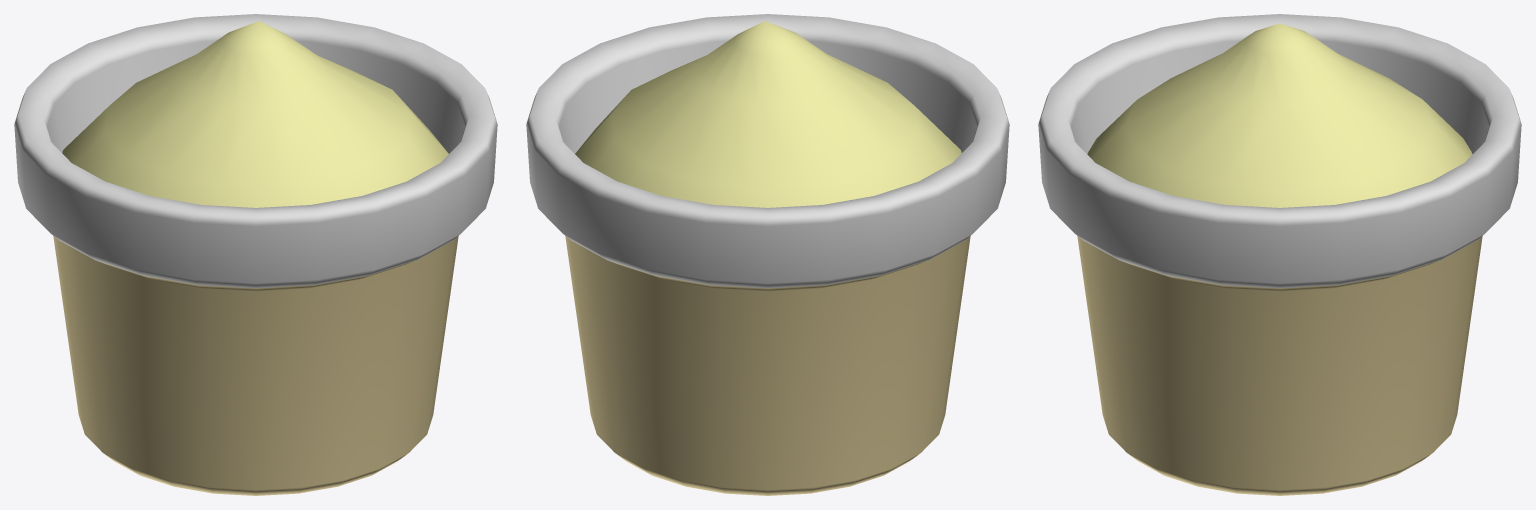
Rendered from pi_cocotteplate01_mayonnaise.gltf.
3 renders of one model, left to right at view 1: azimuth 30°, elevation 25°; view 2: azimuth 150°, elevation 25°; view 3: azimuth 270°, elevation 25°, orthographic.
Parts seen in each view (by area): view 1: um_pi_cocotteplate01_mayonnaise_model_pi_cocotteplate01_mayo (×2); view 2: um_pi_cocotteplate01_mayonnaise_model_pi_cocotteplate01_mayo (×2); view 3: um_pi_cocotteplate01_mayonnaise_model_pi_cocotteplate01_mayo (×2).
Boxes of the visible parts, left/top/right/bottom form: um_pi_cocotteplate01_mayonnaise_model_pi_cocotteplate01_mayo (×2): left=14, top=14, right=497, bottom=495; um_pi_cocotteplate01_mayonnaise_model_pi_cocotteplate01_mayo (×2): left=526, top=14, right=1009, bottom=495; um_pi_cocotteplate01_mayonnaise_model_pi_cocotteplate01_mayo (×2): left=1038, top=14, right=1521, bottom=495.
Size of the model in its own units: 0.0797 by 0.0739 by 0.0797.
2 materials, 2 textured.
